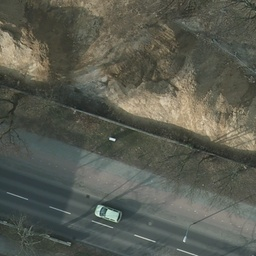car: (96, 206, 121, 224)
